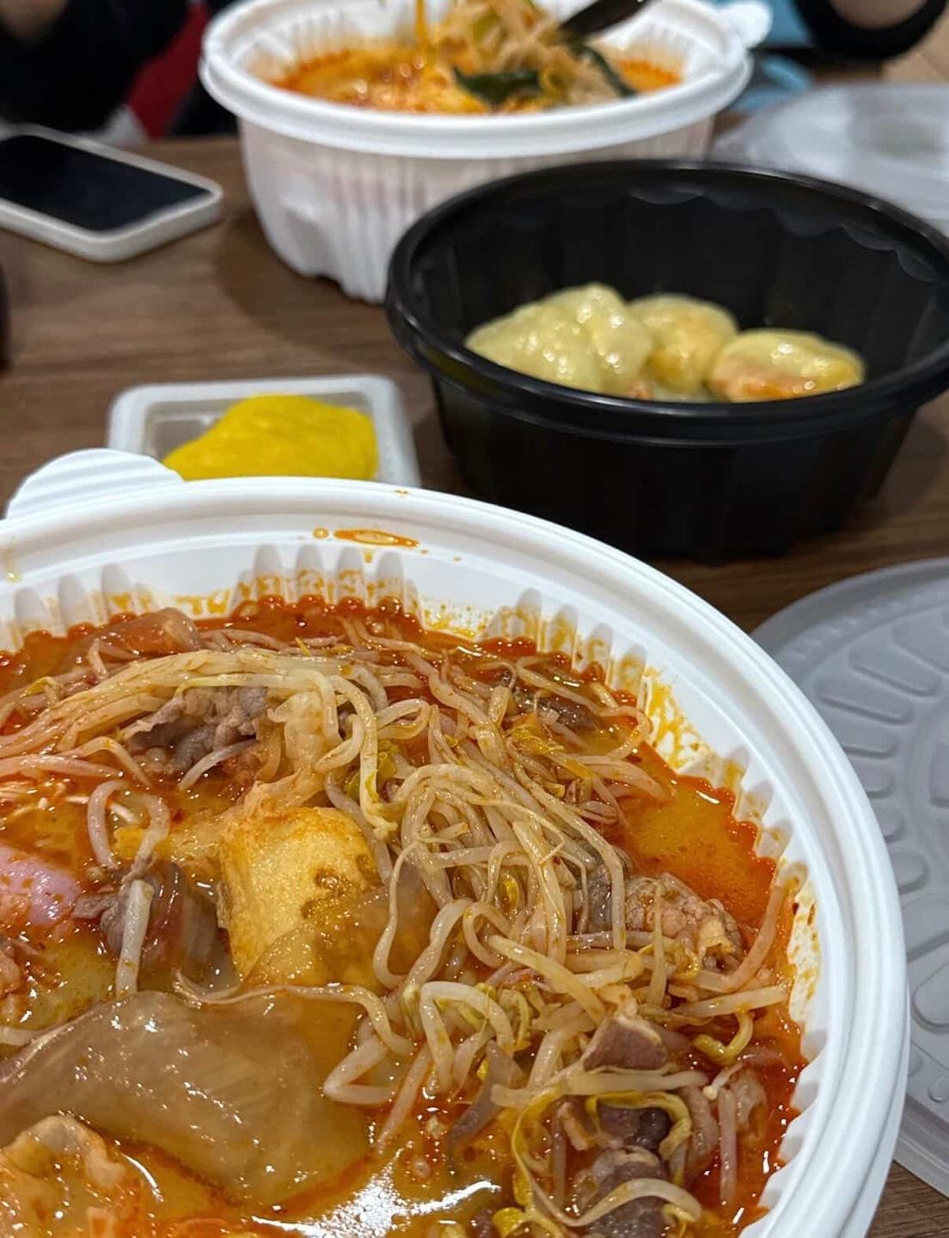Lunch Box: (0, 466, 908, 1237), (386, 161, 948, 561), (199, 0, 770, 302), (107, 375, 419, 486)
